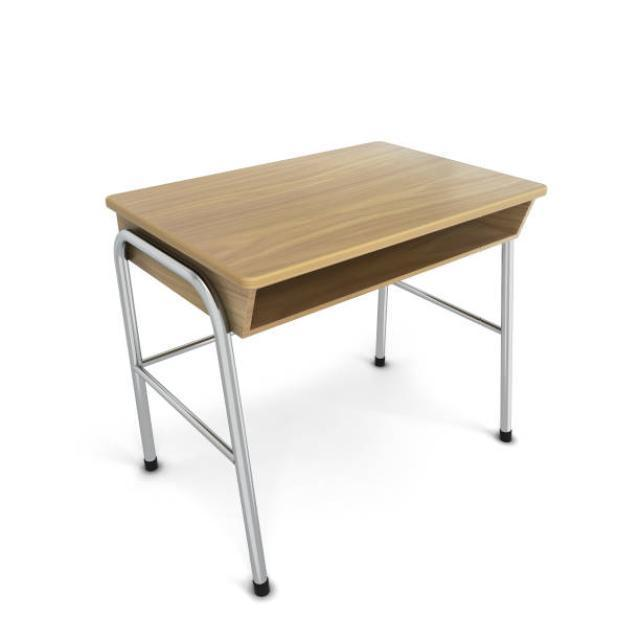table: (105, 138, 548, 597)
